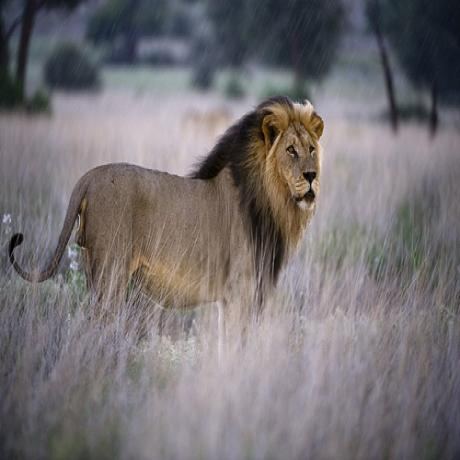Lion: (12, 91, 324, 341)
